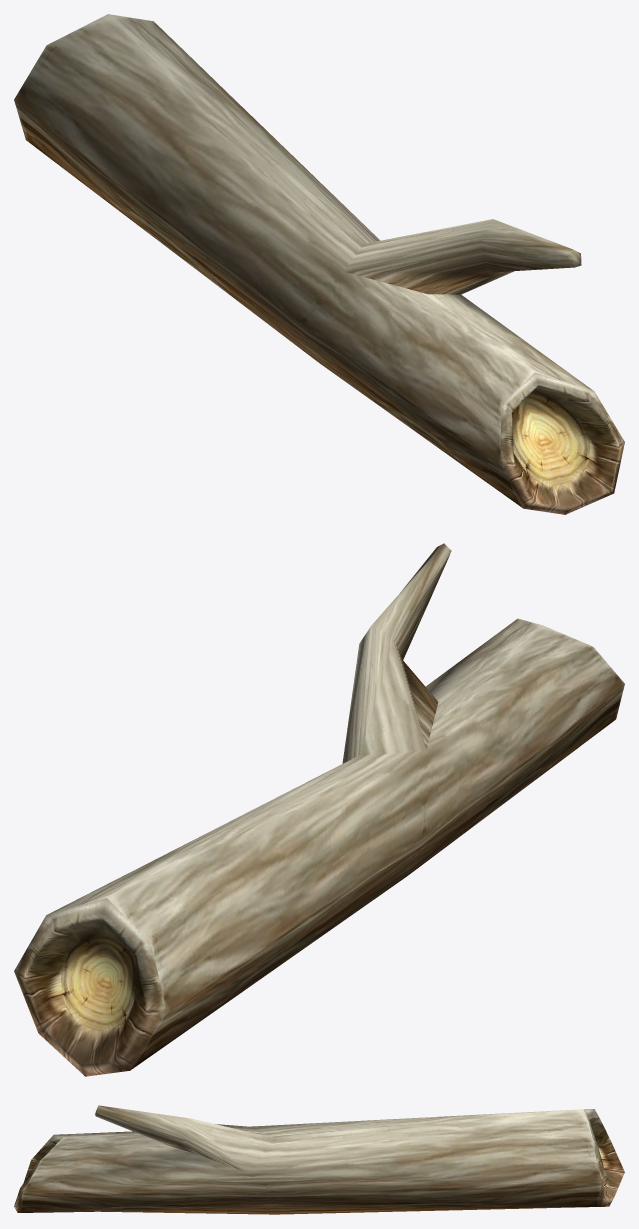
The model's file is redridgefallentree02.glb.
The picture shows the model from 3 angles, top to bottom: view 1: azimuth 30°, elevation 25°; view 2: azimuth 150°, elevation 25°; view 3: azimuth 270°, elevation 25°; orthographic projection. The views are drawn at different scales.
Size of the model in its own units: 2.39 by 3.1 by 13.26.
2 materials, 2 textured.
